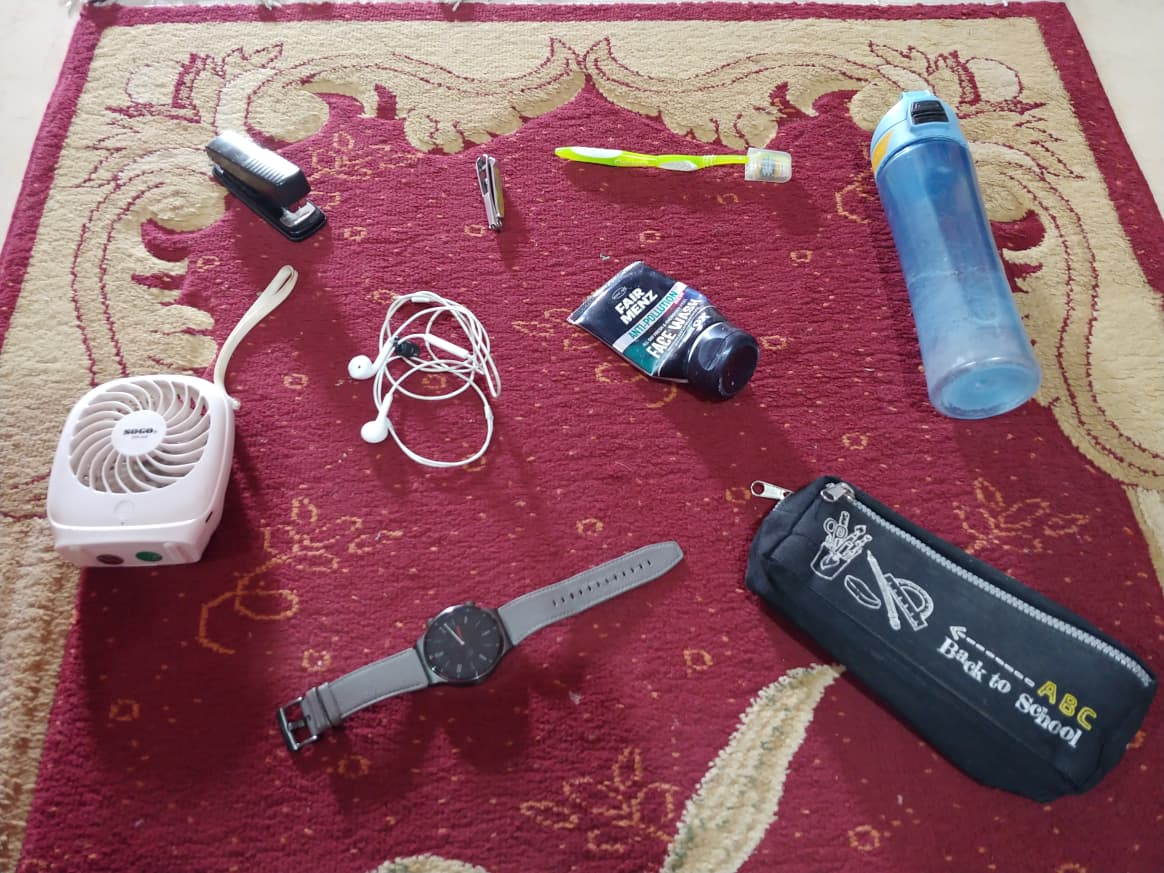Earphones: (320, 261, 514, 507)
Facewash: (548, 238, 776, 429)
Geometry box: (692, 454, 1158, 818)
Nail cutter: (444, 121, 546, 244)
SOGO table fan: (45, 226, 300, 631)
Smartwatch: (210, 534, 744, 762)
Stapler: (166, 113, 351, 244)
Toothbrush: (551, 123, 813, 212)
Water bottle: (848, 84, 1064, 444)
